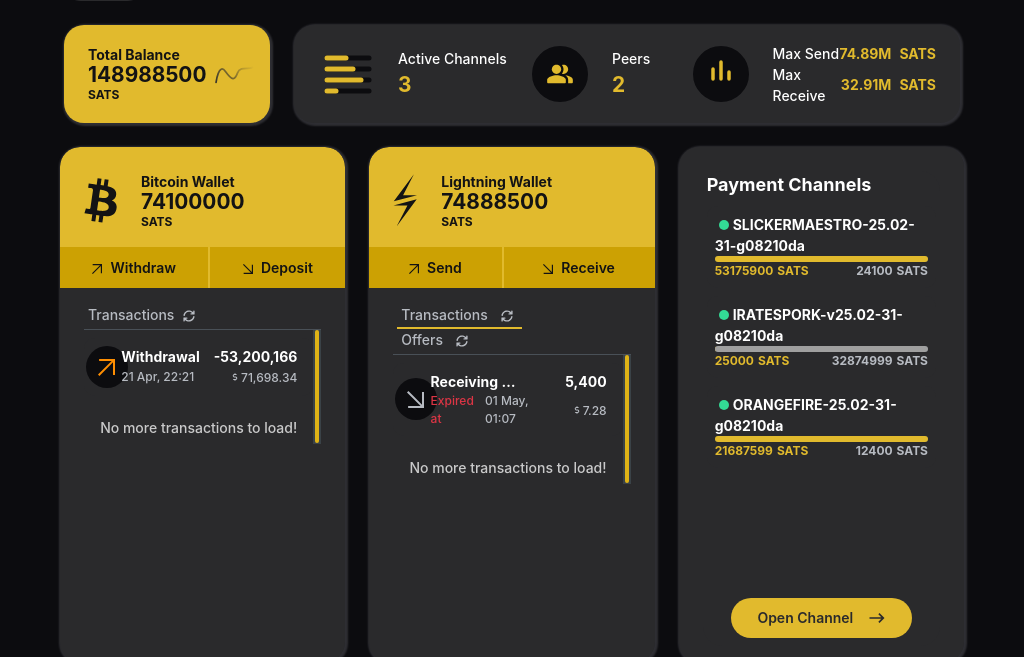
Test: ChannelDetails component › should be in the document
Click an first channel
Click the list item with test id "list-item-channel" that starts with "SLICKERMAESTRO-25.02-31-g08210da". click: click(821, 247)
box: top-left (707, 206), bottom-right (936, 288)
(page scrolled)
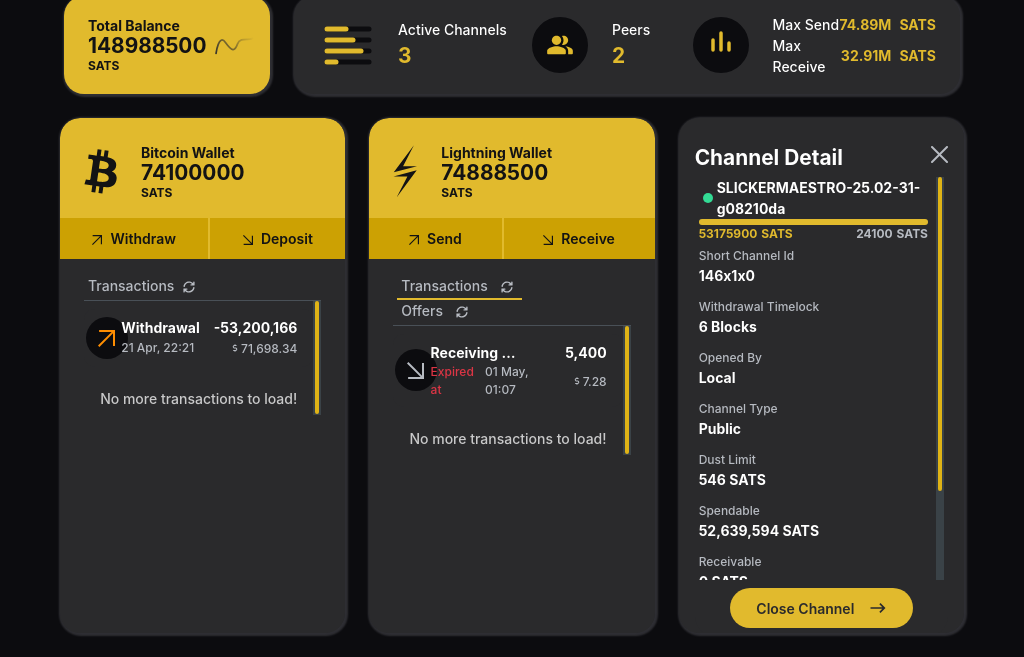
Result: the form with test id "channel-details" is shown at top-left (679, 118), bottom-right (964, 632)
